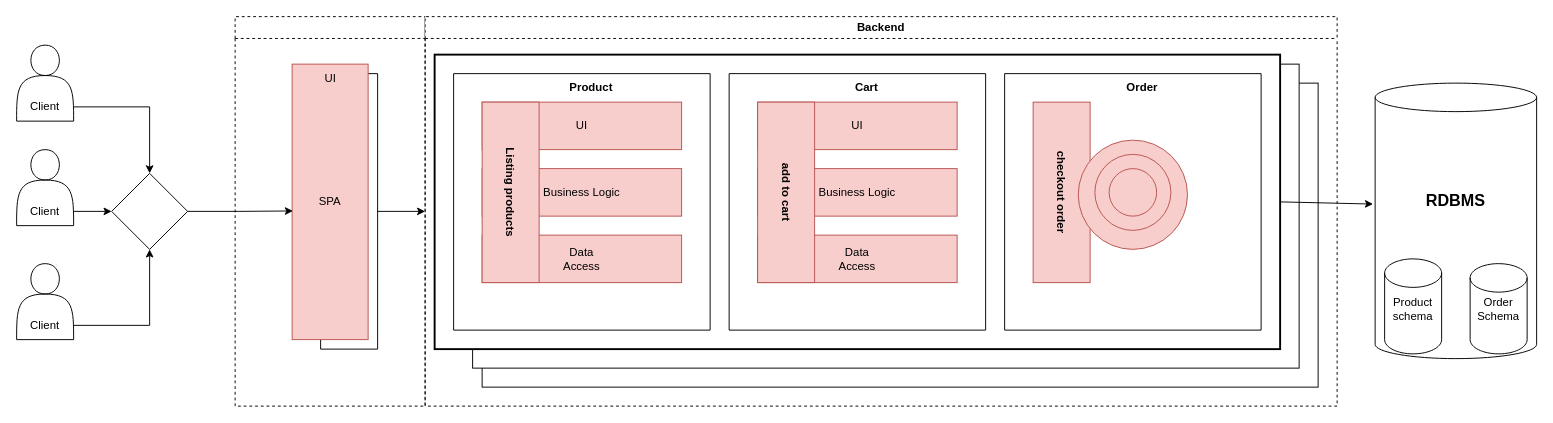
This 1553x423 diagram has some shape labels left out. The shapes that lost their labels are listed below. From the top down, each one's box as (x1, y1, x2, y2) in pixels, then its label:
(111, 172, 188, 249): Load Balancer
(234, 16, 425, 406): Frontend
(1108, 168, 1157, 216): Clean Architecture
